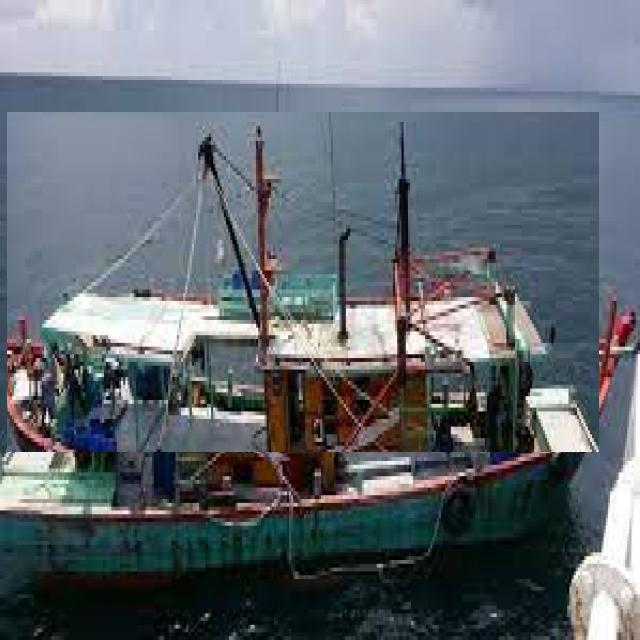Fishing Boat: (8, 112, 600, 452)
